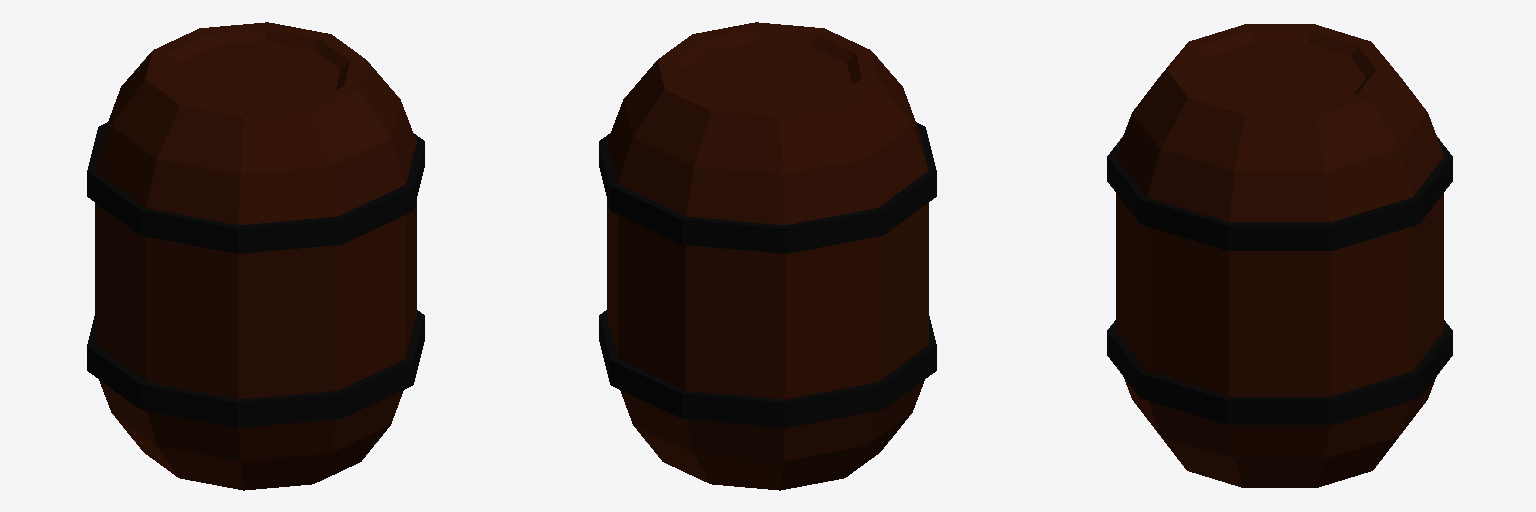
The model's file is barrel.obj.
3 views of the same model, side by side, from view 1: azimuth 30°, elevation 25°; view 2: azimuth 150°, elevation 25°; view 3: azimuth 270°, elevation 25° (orthographic).
Parts seen in each view (by area): view 1: barrel; view 2: barrel; view 3: barrel.
Part boxes in pixels (bbox=[...]): barrel: bbox=[87, 22, 424, 490]; barrel: bbox=[599, 22, 936, 490]; barrel: bbox=[1107, 24, 1452, 487].
Bounding box in the file's own units: 1.6 × 2 × 1.68.